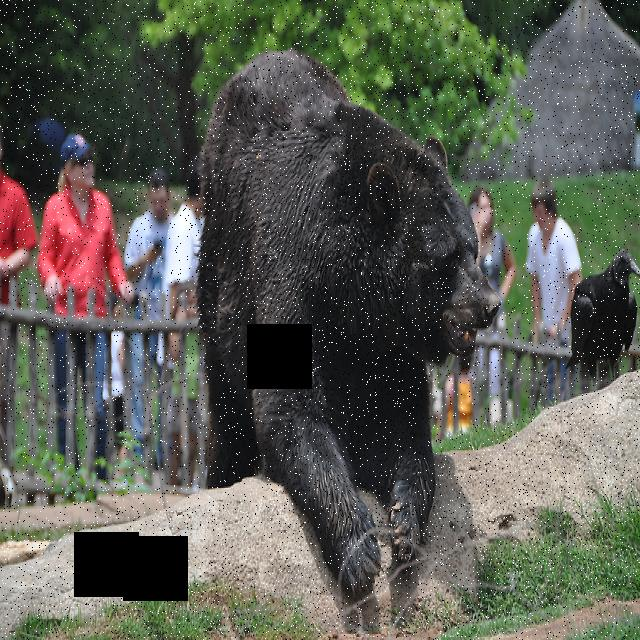Bear: (190, 46, 504, 599)
